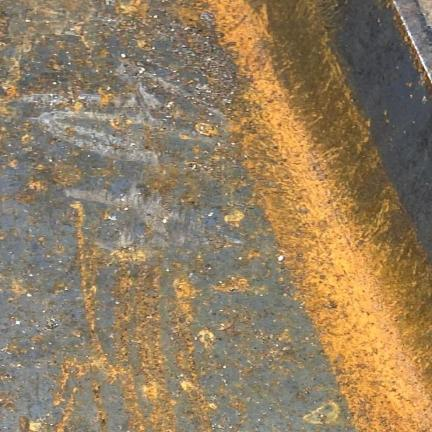karat: (208, 0, 431, 432), (234, 0, 431, 428), (132, 269, 175, 432)
